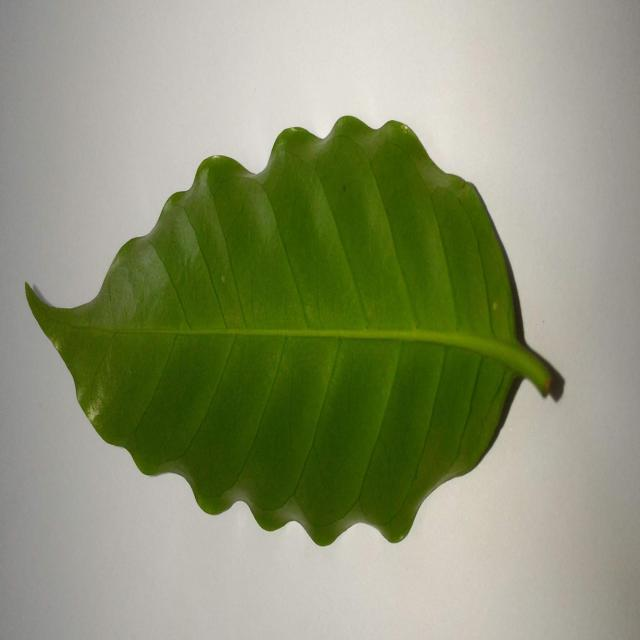nodisease: (25, 116, 564, 546)
